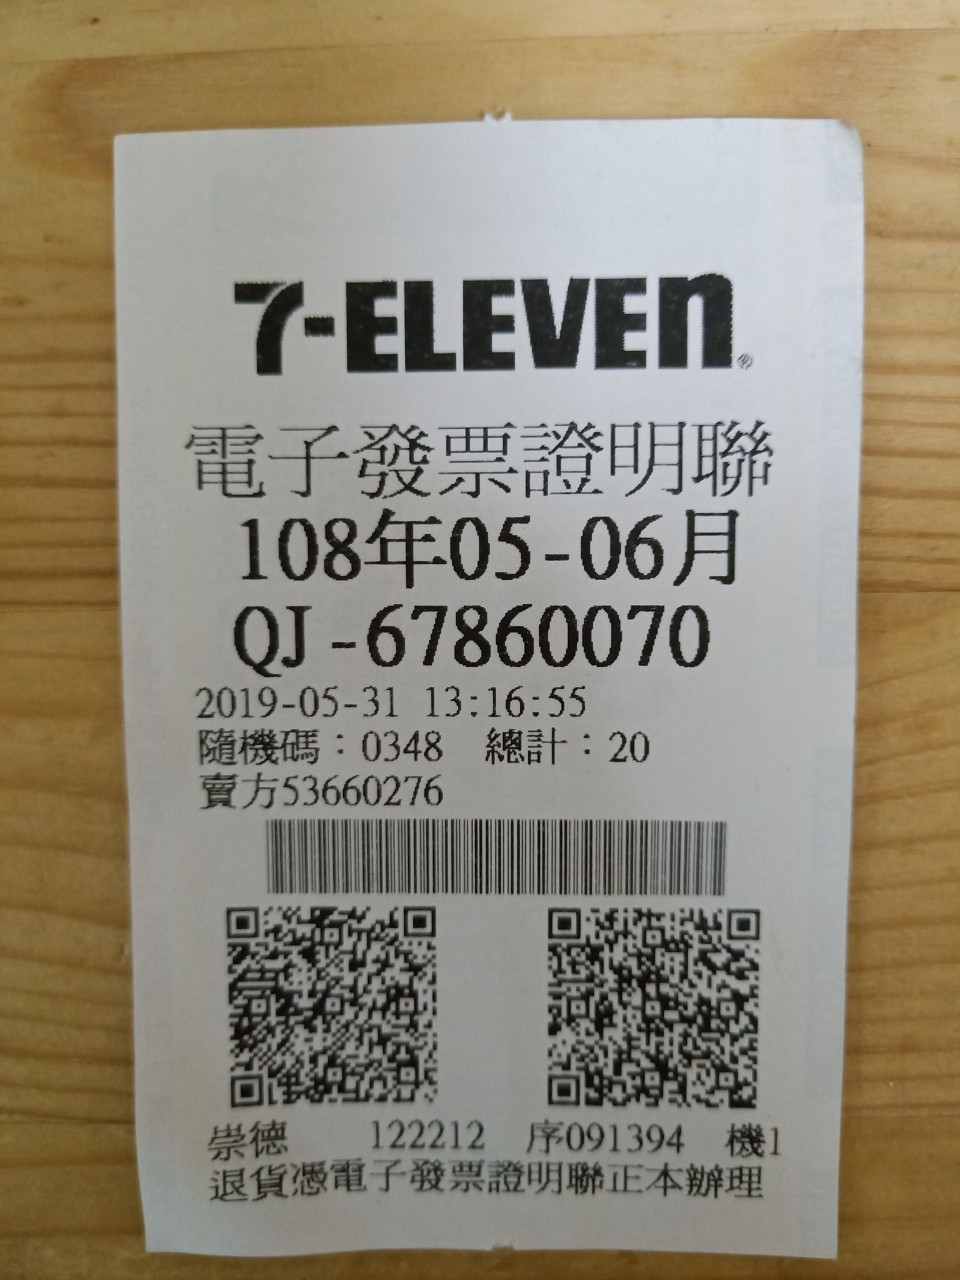Date_New: (234, 507, 743, 588)
Number_New: (366, 603, 718, 668)
